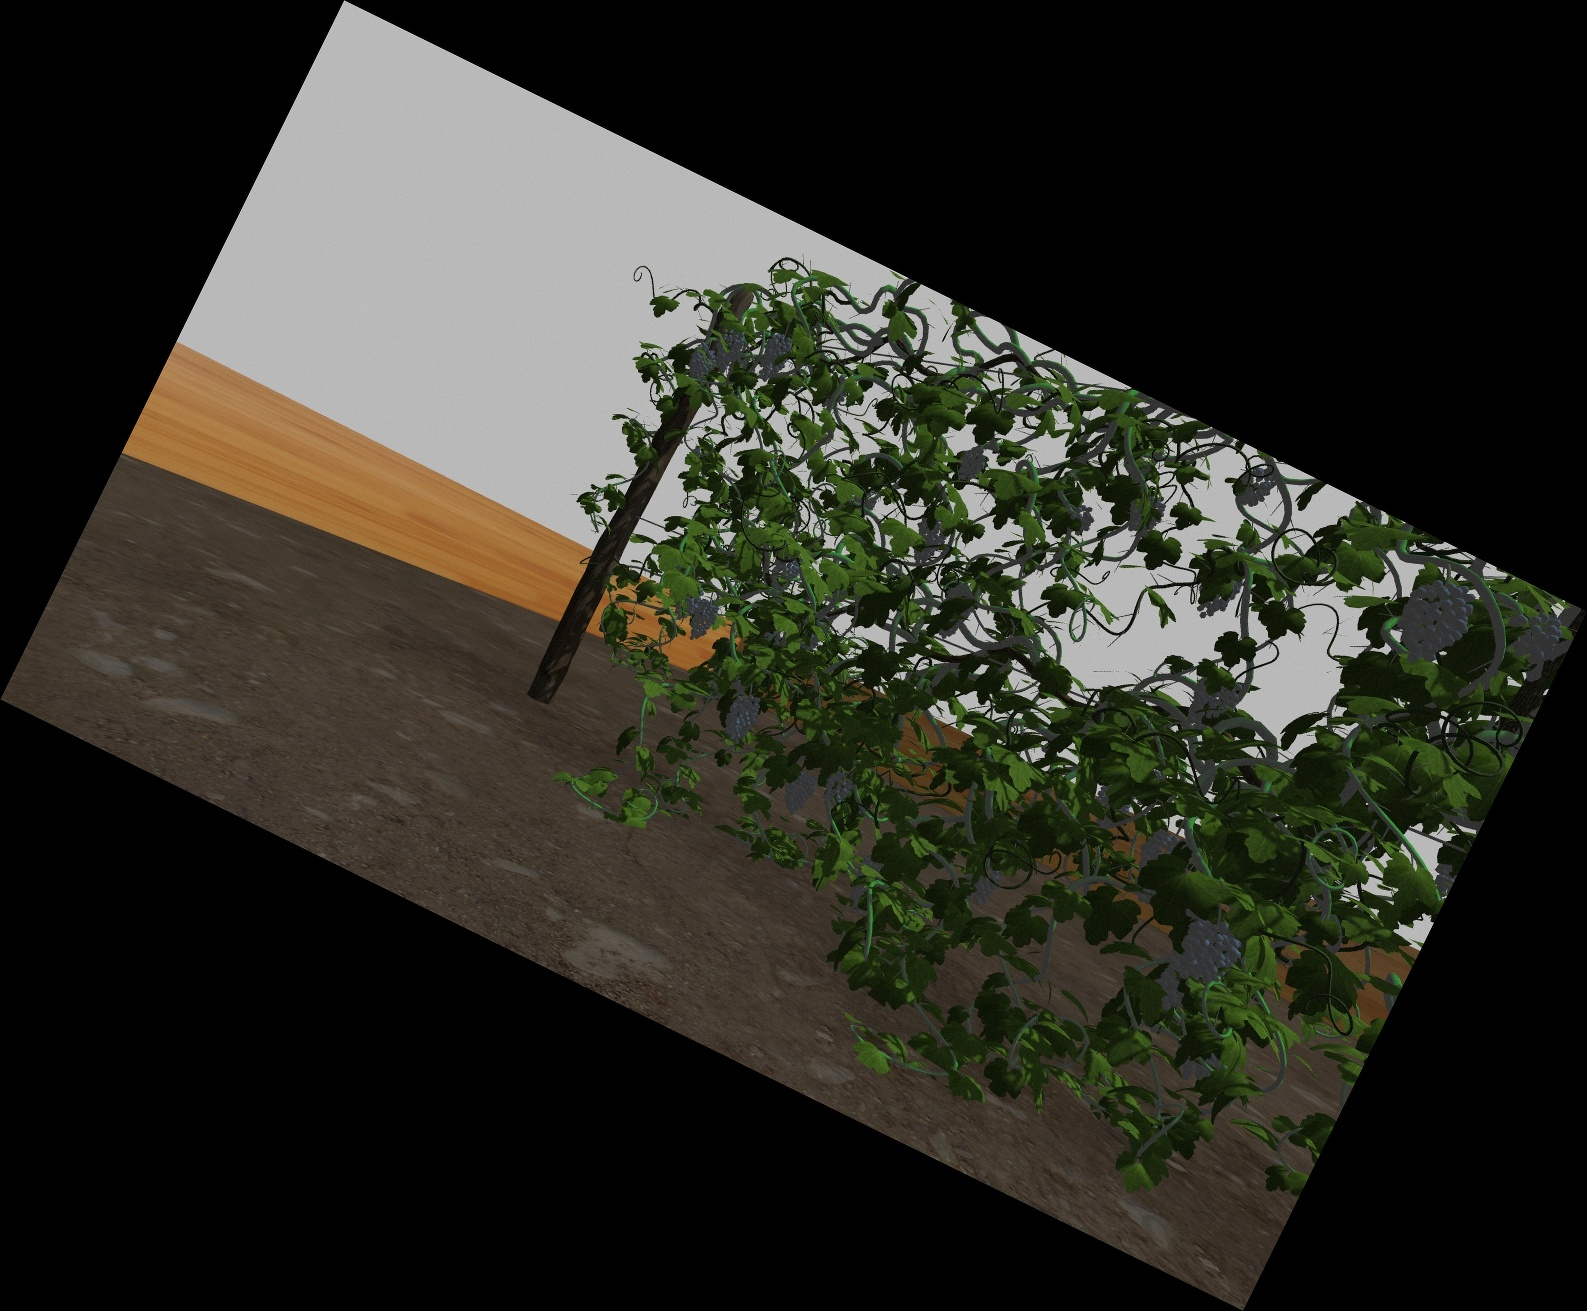grape: (1402, 578, 1464, 663), (1181, 921, 1238, 980), (1190, 671, 1235, 729), (1136, 829, 1173, 897), (1512, 607, 1559, 659), (1148, 974, 1184, 1016), (783, 767, 813, 814), (1235, 469, 1269, 509), (728, 694, 755, 743), (913, 519, 942, 564), (966, 863, 1000, 900), (822, 769, 851, 812), (763, 335, 788, 379), (714, 328, 741, 370), (691, 600, 714, 643), (772, 555, 796, 592), (960, 447, 985, 480), (688, 347, 712, 381), (675, 592, 695, 619)
